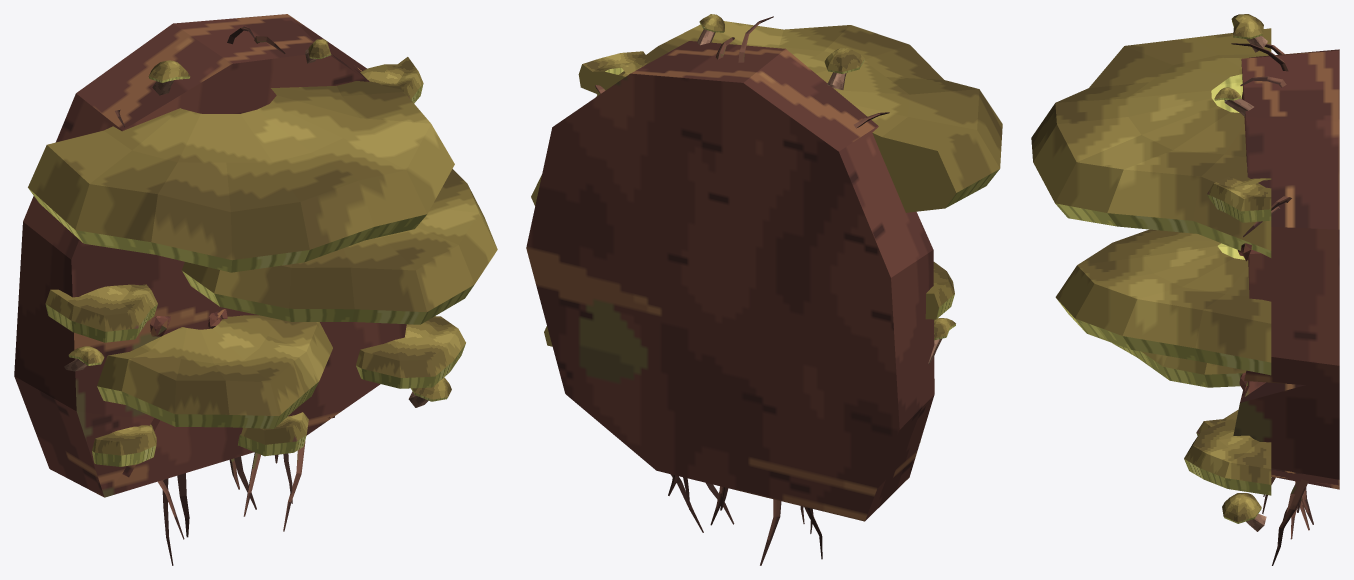
Rendered from SM_AN39_WallFungi.fbx.
3 renders of one model, left to right at view 1: azimuth 30°, elevation 25°; view 2: azimuth 150°, elevation 25°; view 3: azimuth 270°, elevation 25°, orthographic. The views are drawn at different scales.
Visible parts, largest first — view 1: AN39a_Props, AN39a_Earth, AN39a_Root; view 2: AN39a_Earth, AN39a_Props, AN39a_Root; view 3: AN39a_Props, AN39a_Earth, AN39a_Root.
Boxes of the visible parts, bbox=[...] form: AN39a_Props: bbox=[28, 39, 497, 466]; AN39a_Earth: bbox=[14, 14, 406, 497]; AN39a_Root: bbox=[115, 26, 305, 565]; AN39a_Earth: bbox=[526, 41, 934, 521]; AN39a_Props: bbox=[531, 14, 1002, 442]; AN39a_Root: bbox=[595, 16, 889, 565]; AN39a_Props: bbox=[1031, 14, 1271, 531]; AN39a_Earth: bbox=[1233, 49, 1339, 489]; AN39a_Root: bbox=[1231, 43, 1313, 565].
Bounding box in the file's own units: 0.98 × 1.14 × 0.632.
